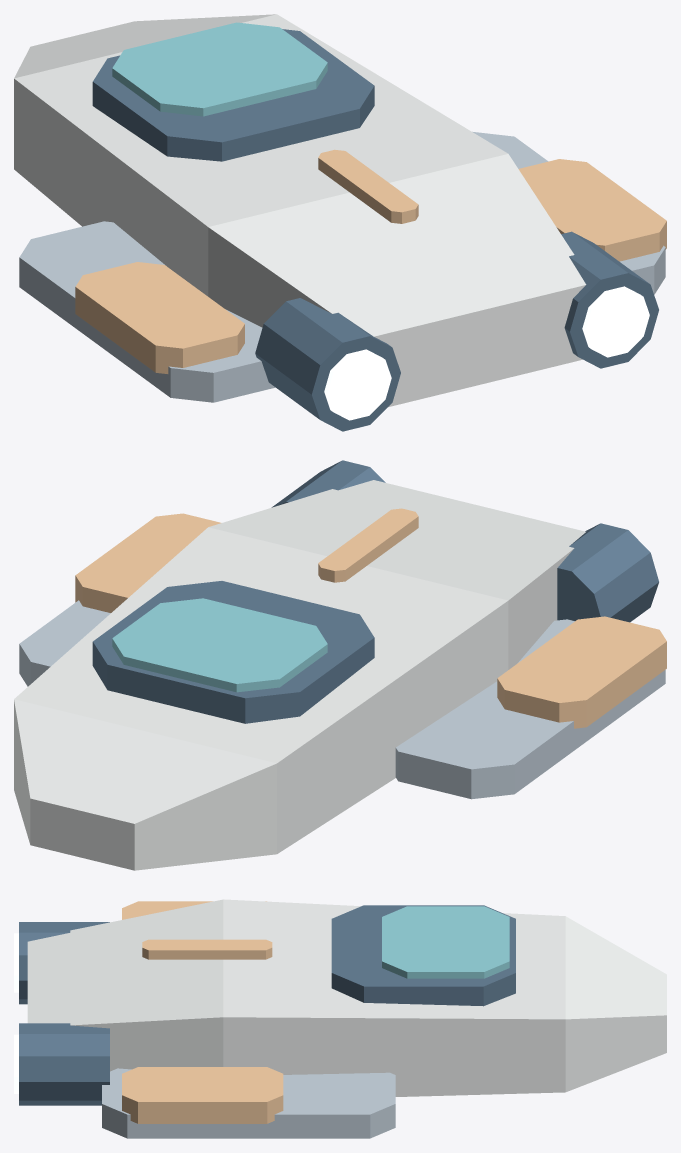
The model's file is nave.glb.
3 renders of one model, top to bottom at view 1: azimuth 30°, elevation 25°; view 2: azimuth 150°, elevation 25°; view 3: azimuth 270°, elevation 25°, orthographic. The views are drawn at different scales.
Parts seen in each view (by area): view 1: nave; view 2: nave; view 3: nave.
Boxes of the visible parts, x1,y1,x2,y2 form: nave: (14, 14, 666, 431); nave: (14, 460, 666, 870); nave: (14, 899, 666, 1138).
Size of the model in its own units: 4.12 by 1.06 by 5.67.
